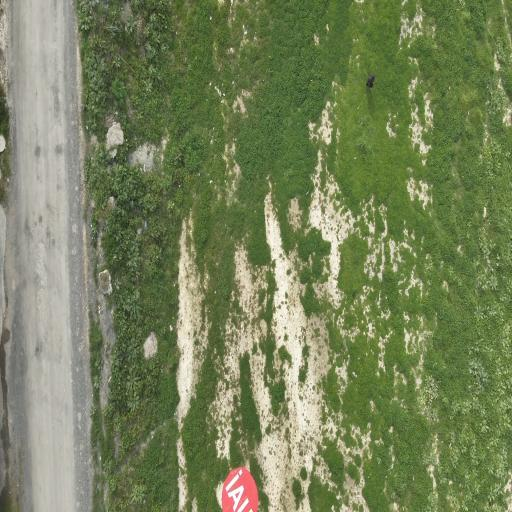UAI: (222, 466, 258, 511)
person: (367, 73, 374, 87)
